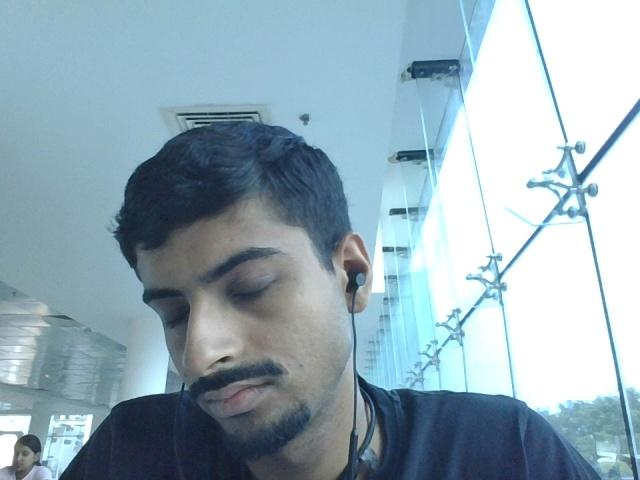nervous: (92, 118, 447, 455)
